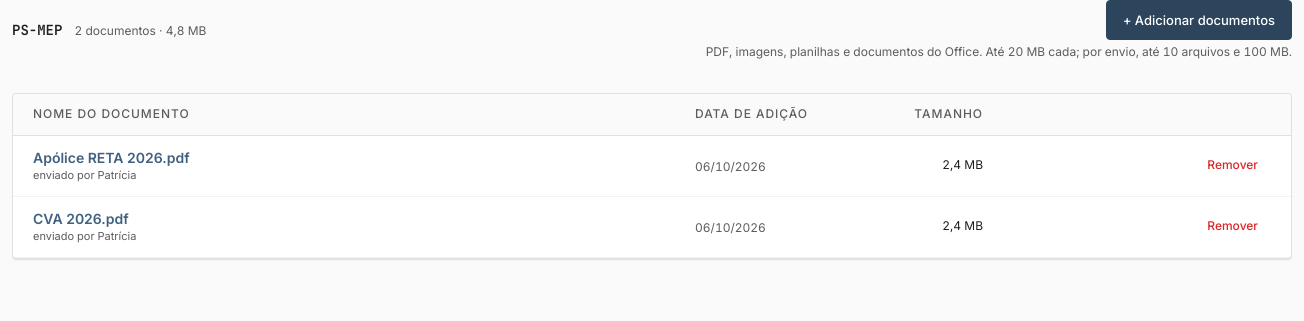
PaginaDeDocumentos › a remoção que falha diz o porquê, em vez de fechar em silêncio
The width and height of the screenshot is (1304, 321).
Click the button with aria-label "Remover Apólice RETA 2026.pdf" at (1233, 166), box x1=1194 y1=144 x2=1271 y2=188
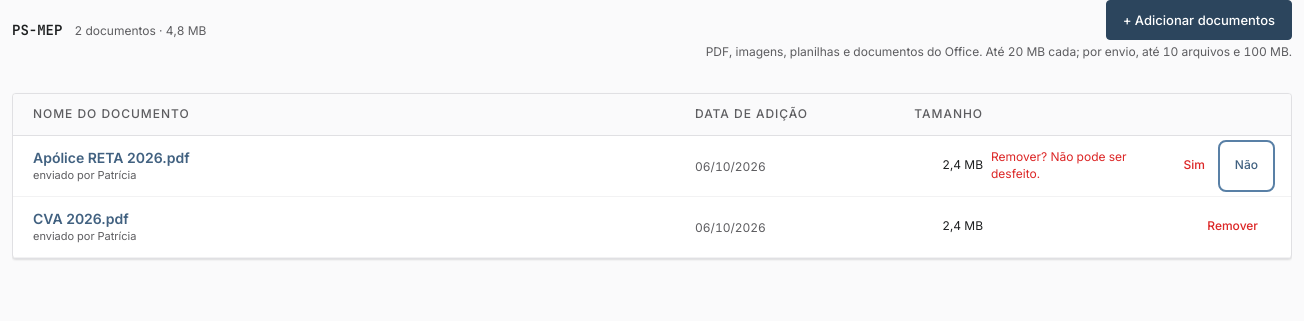
Click the button with aria-label "Sim, remover Apólice RETA 2026.pdf" at (1194, 166), box x1=1170 y1=144 x2=1218 y2=188
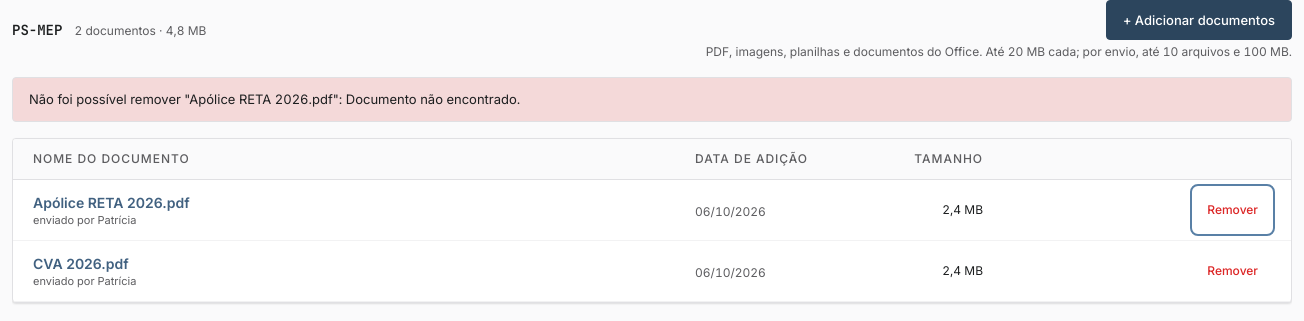
expect the message reads "Não foi possível remover \"Apólice RETA 2026.pdf\": Documento não encontrado.": met, box x1=29 y1=91 x2=520 y2=107
